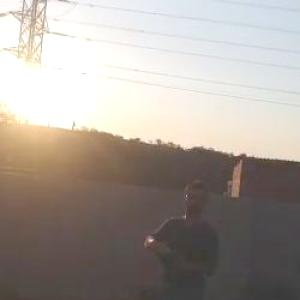follow: (134, 175, 231, 299)
